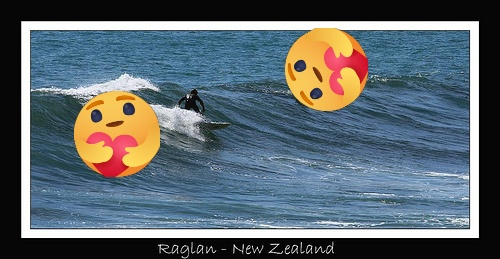care: (74, 91, 160, 177), (285, 28, 368, 111)
